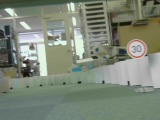speed_30: (125, 39, 148, 59)
